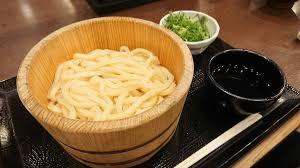kamaage: (13, 11, 198, 168)
